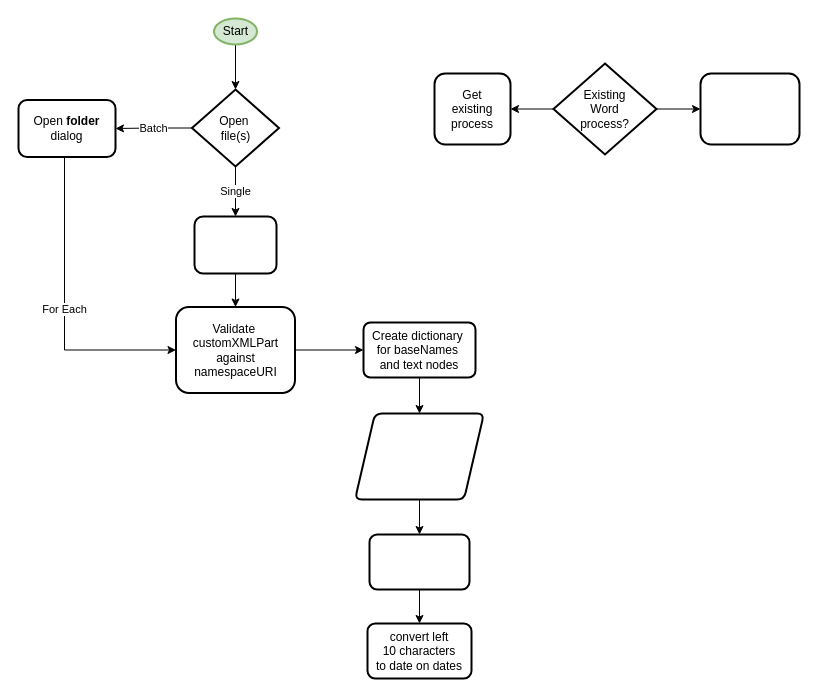
This 817x696 diagram has some shape labels left out. The shapes that lost their labels are listed below. From the top down, each one's centre as x and y in pixels, then its label:
pixel 749 108: Create new process, get a handle
pixel 235 244: Open file dialog
pixel 419 456: Get datat from content control XMLMapping CustomXMLNode
pixel 419 561: pass over text nodes that start with <
